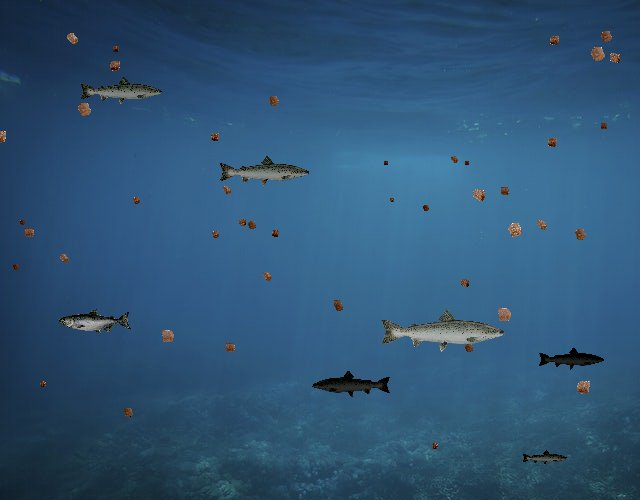Fish: (378, 307, 507, 353), (218, 154, 312, 188), (78, 75, 164, 106), (312, 370, 393, 399), (60, 309, 133, 335), (538, 346, 606, 370), (521, 449, 568, 466)
Pellet: (569, 374, 597, 402), (465, 182, 492, 209), (60, 26, 85, 51), (568, 222, 592, 246), (428, 439, 442, 453), (36, 377, 50, 391)
